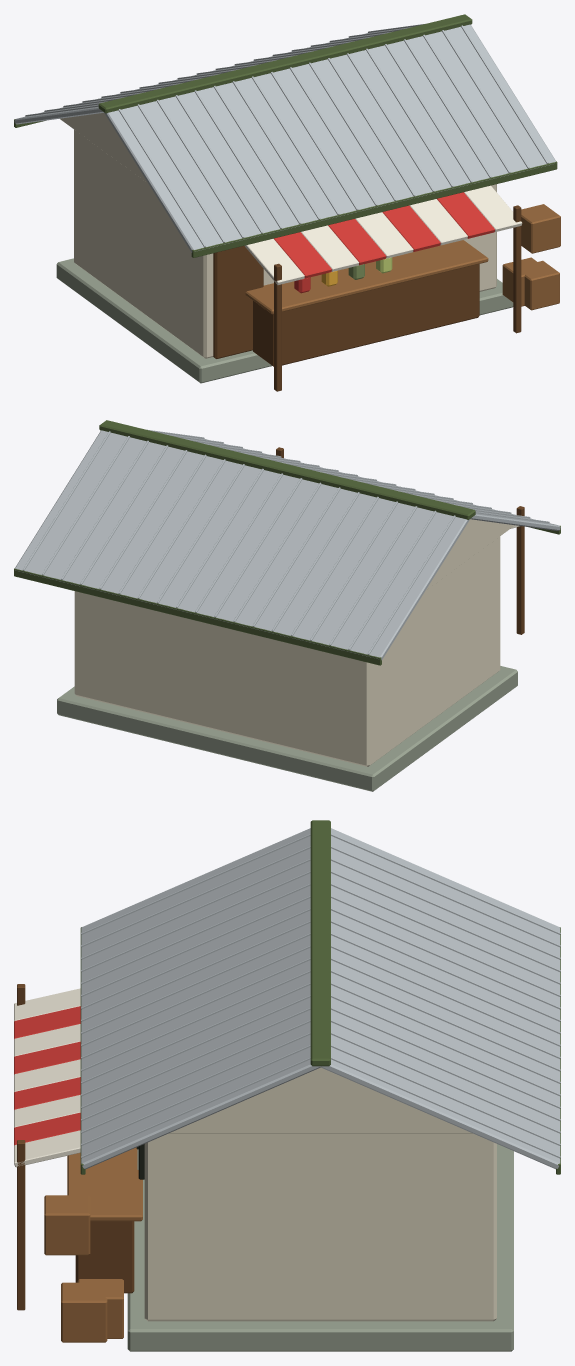
The model's file is house_b.glb.
3 views of the same model, one above another, from view 1: azimuth 30°, elevation 25°; view 2: azimuth 150°, elevation 25°; view 3: azimuth 270°, elevation 25° (orthographic). The views are drawn at different scales.
Visible parts, largest first — view 1: HouseB; view 2: HouseB; view 3: HouseB.
Part boxes in pixels (bbox=[...]): HouseB: bbox=[14, 14, 560, 391]; HouseB: bbox=[14, 420, 560, 791]; HouseB: bbox=[14, 820, 560, 1351].
Size of the model in its own units: 6.76 by 4.08 by 6.52.
